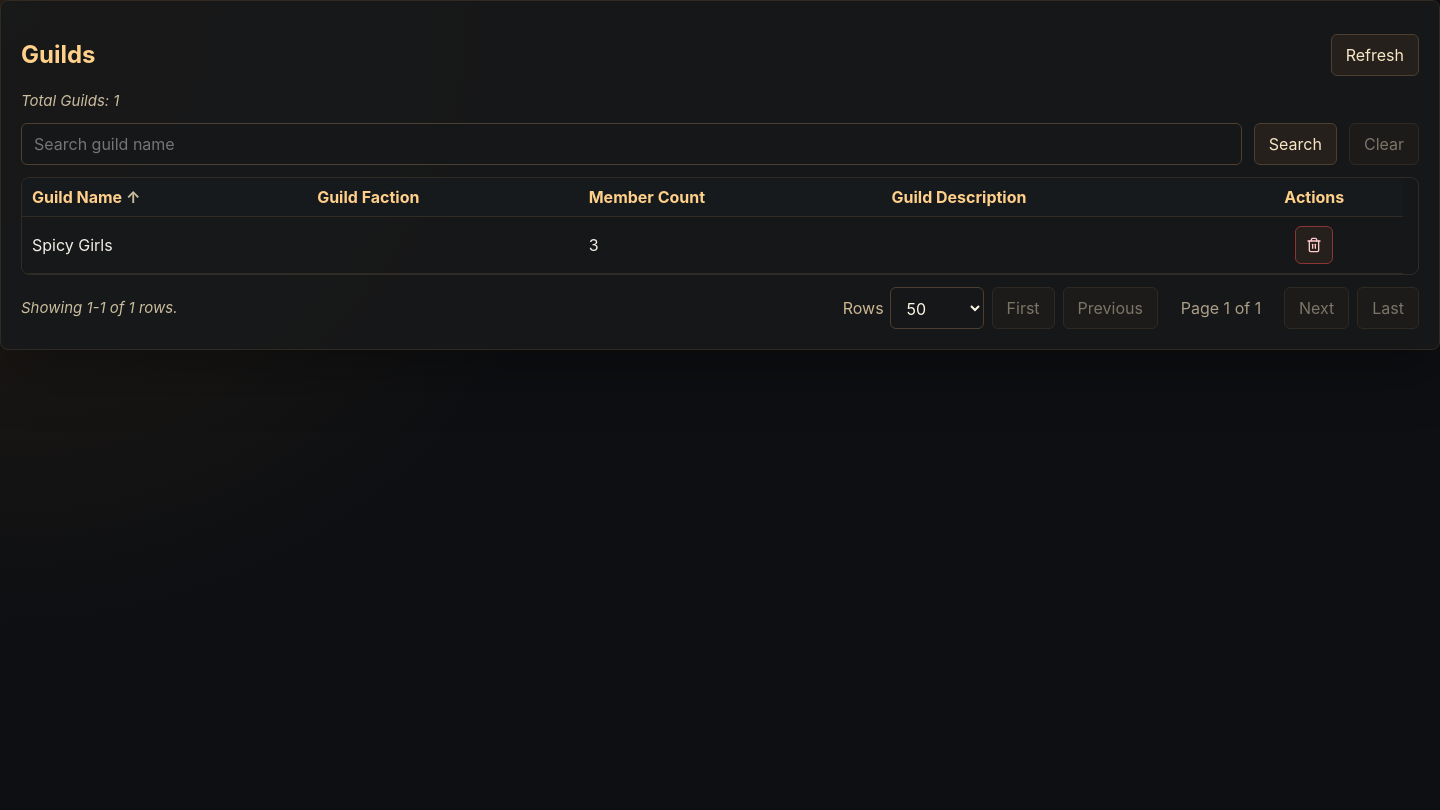
Test: GuildsPanel member actions › shows all three actions on every row, greying out whichever don't apply
This screenshot has width=1440, height=810.
Click the text "Spicy Girls" at coordinates (165, 245), box [22,216,307,273]
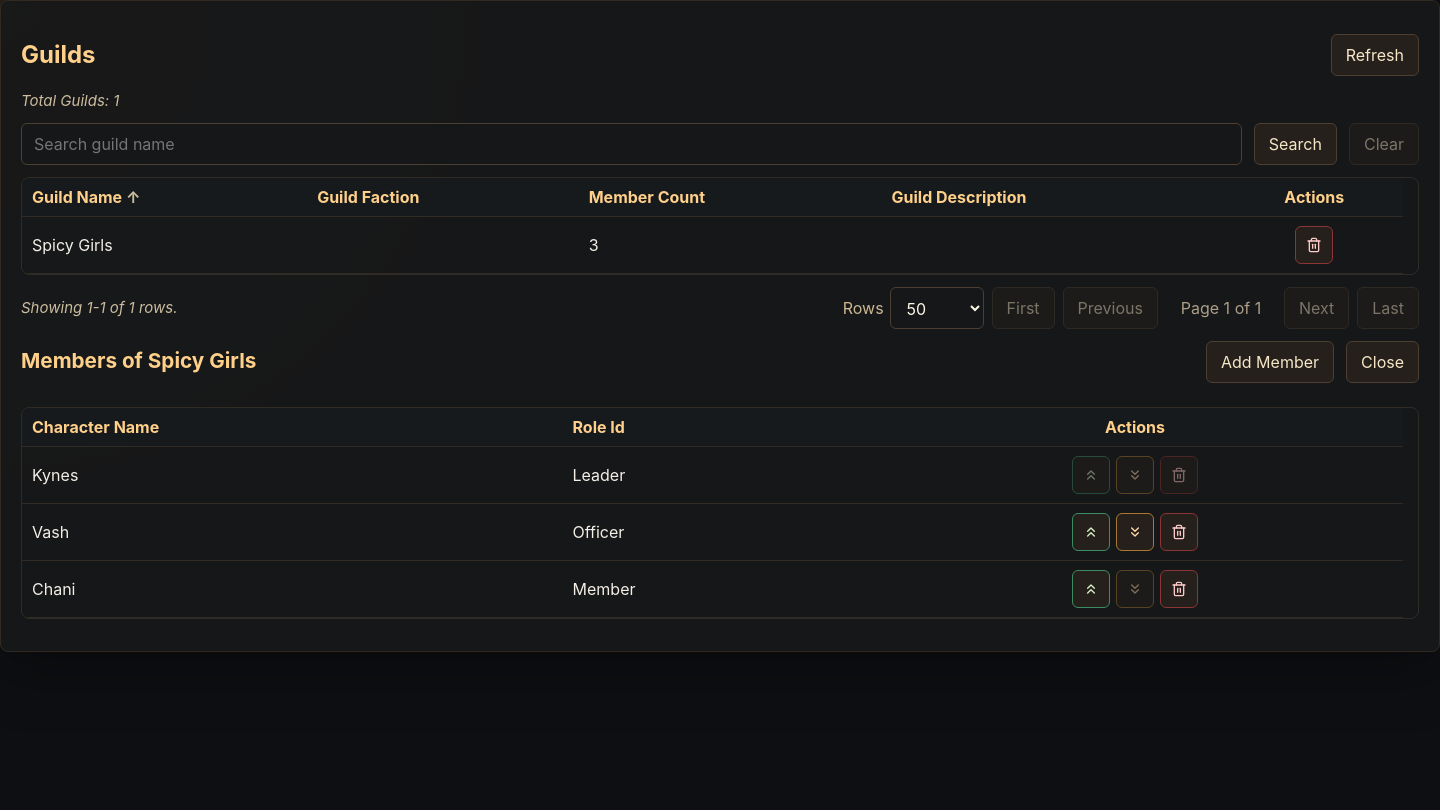
Expected: the text "Kynes" is shown, [22,446,562,503]
Expected: the button named "Cannot promote the leader further" is disabled, [1072,456,1110,494]
Expected: the button named "Cannot demote the leader" is disabled, [1116,456,1154,494]
